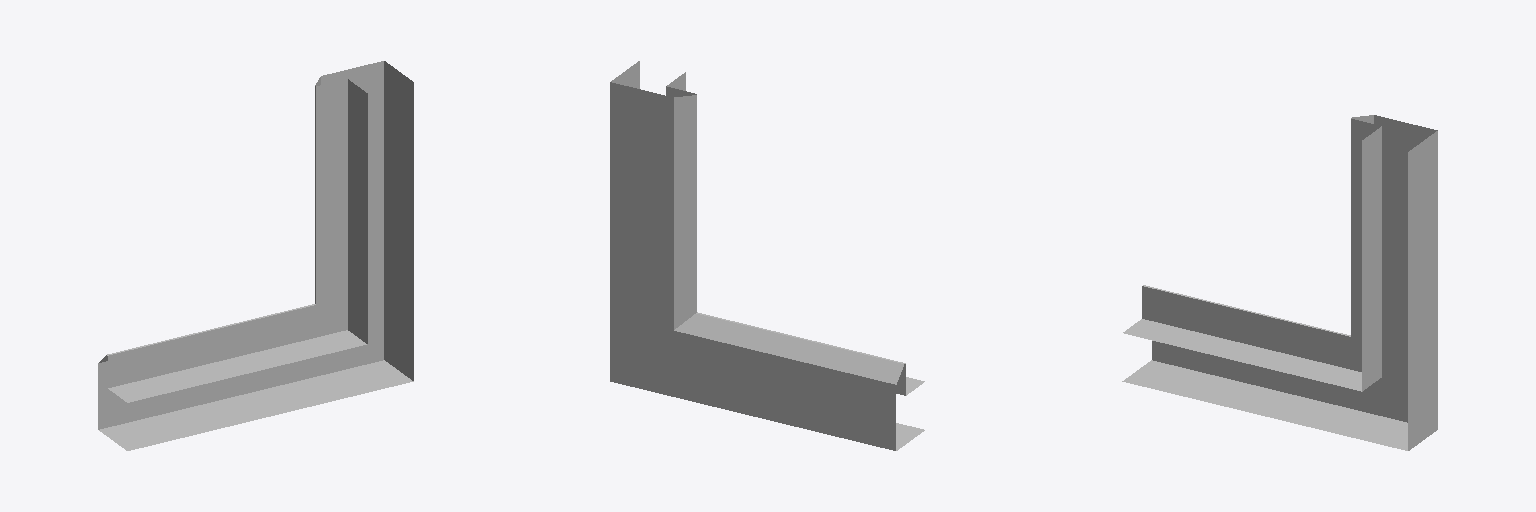
File: original-19.obj
3 views of the same model, side by side, from view 1: azimuth 30°, elevation 25°; view 2: azimuth 150°, elevation 25°; view 3: azimuth 330°, elevation 25° (orthographic).
Visible parts, largest first — view 1: #ID146; view 2: #ID146; view 3: #ID146.
Part boxes in pixels (x1,y1,x2,y2): #ID146: (98, 61, 413, 450); #ID146: (610, 61, 924, 450); #ID146: (1122, 115, 1437, 450).
Size of the model in its own units: 0.1274 by 0.1274 by 0.0226.